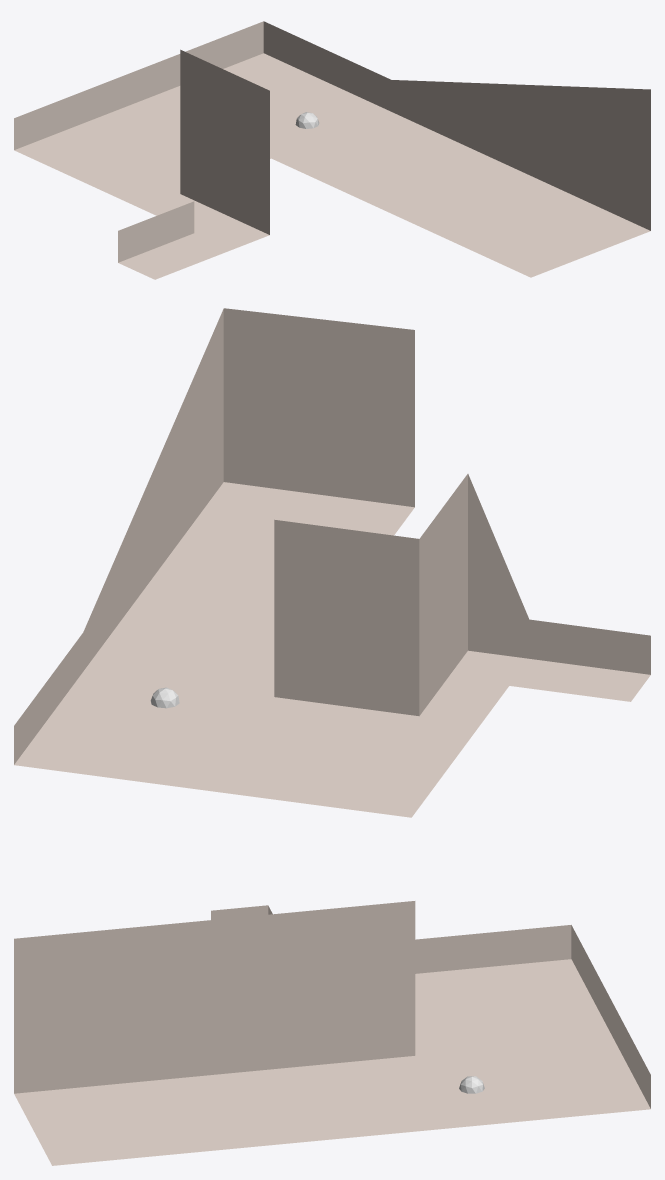
3 renders of one model, top to bottom at view 1: azimuth 30°, elevation 25°; view 2: azimuth 150°, elevation 25°; view 3: azimuth 270°, elevation 25°, orthographic. The views are drawn at different scales.
Visible parts, largest first — view 1: Cube; view 2: Cube; view 3: Cube.
Part boxes in pixels (x1,y1,x2,y2): Cube: [14, 21, 650, 279]; Cube: [14, 308, 650, 817]; Cube: [14, 901, 650, 1165].
Bounding box in the file's own units: 35.65 × 12.25 × 42.4.
